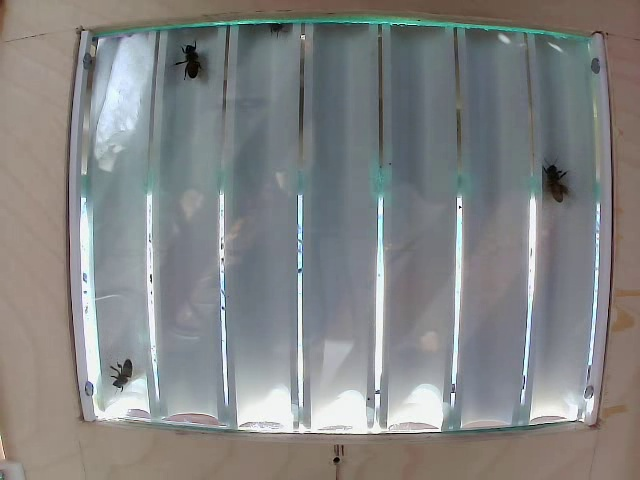bee: (176, 43, 213, 94), (543, 159, 568, 197), (100, 357, 141, 378)
